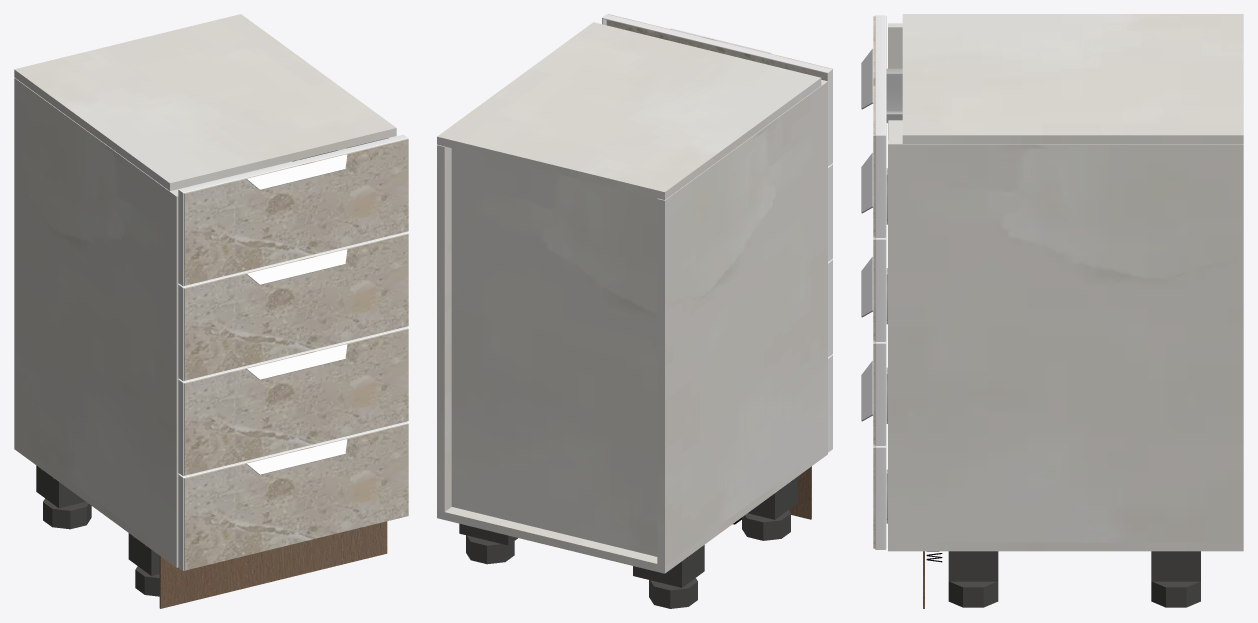
3 views of the same model, side by side, from view 1: azimuth 30°, elevation 25°; view 2: azimuth 150°, elevation 25°; view 3: azimuth 270°, elevation 25° (orthographic). The views are drawn at different scales.
Size of what is drawn, in the model's own units: 0.45 by 0.82 by 0.6.
7 materials, 3 textured.
